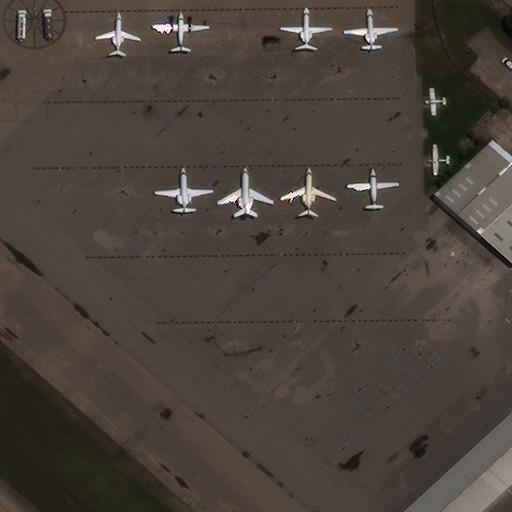Medium Civil Transport: (154, 167, 212, 214), (280, 167, 335, 216), (217, 167, 272, 214), (343, 8, 396, 51), (152, 12, 208, 51)
Small Civil Transport: (281, 6, 330, 49), (348, 168, 398, 210), (95, 12, 139, 55), (426, 145, 449, 175), (424, 89, 446, 115)
